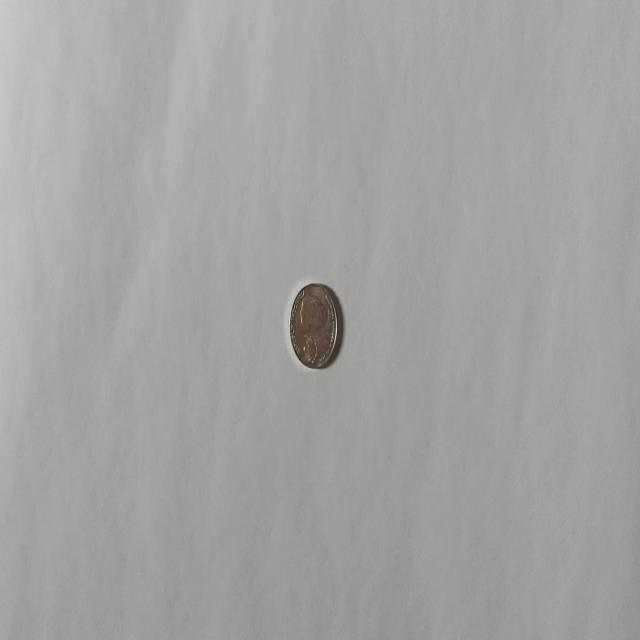seratus rupiah: (288, 282, 338, 369)
